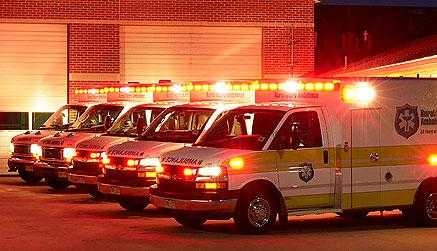Ambulance: (185, 79, 437, 228), (102, 89, 262, 211), (76, 88, 172, 188), (59, 92, 127, 178), (17, 106, 79, 194)
